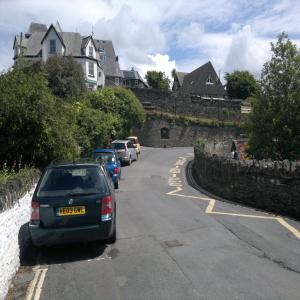Vehicle-registration-plate: (57, 206, 86, 217)
